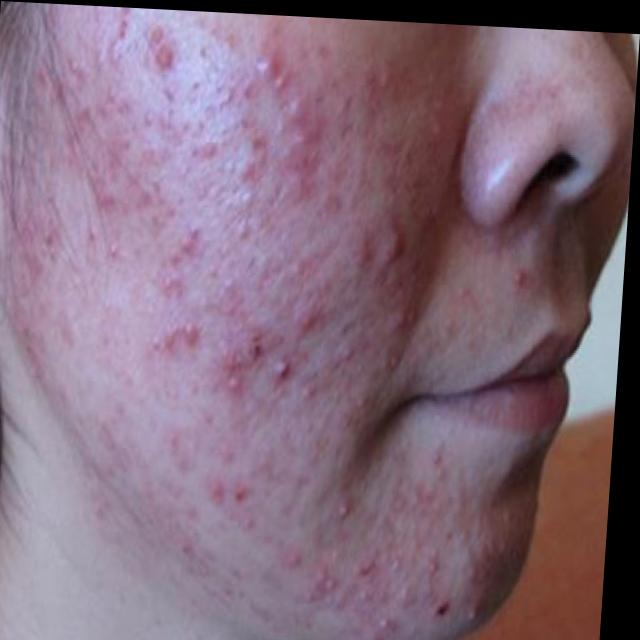8: (272, 94, 324, 199), (136, 16, 195, 90), (161, 214, 207, 283), (267, 335, 309, 395), (416, 463, 459, 509), (255, 41, 289, 97)
9: (496, 240, 552, 305), (370, 327, 419, 386), (330, 478, 380, 532), (295, 287, 332, 350), (368, 604, 416, 640), (465, 592, 501, 635), (423, 541, 458, 582)
papules: (223, 318, 274, 408), (301, 558, 359, 621), (159, 300, 208, 362)
pustules: (378, 202, 416, 286)
